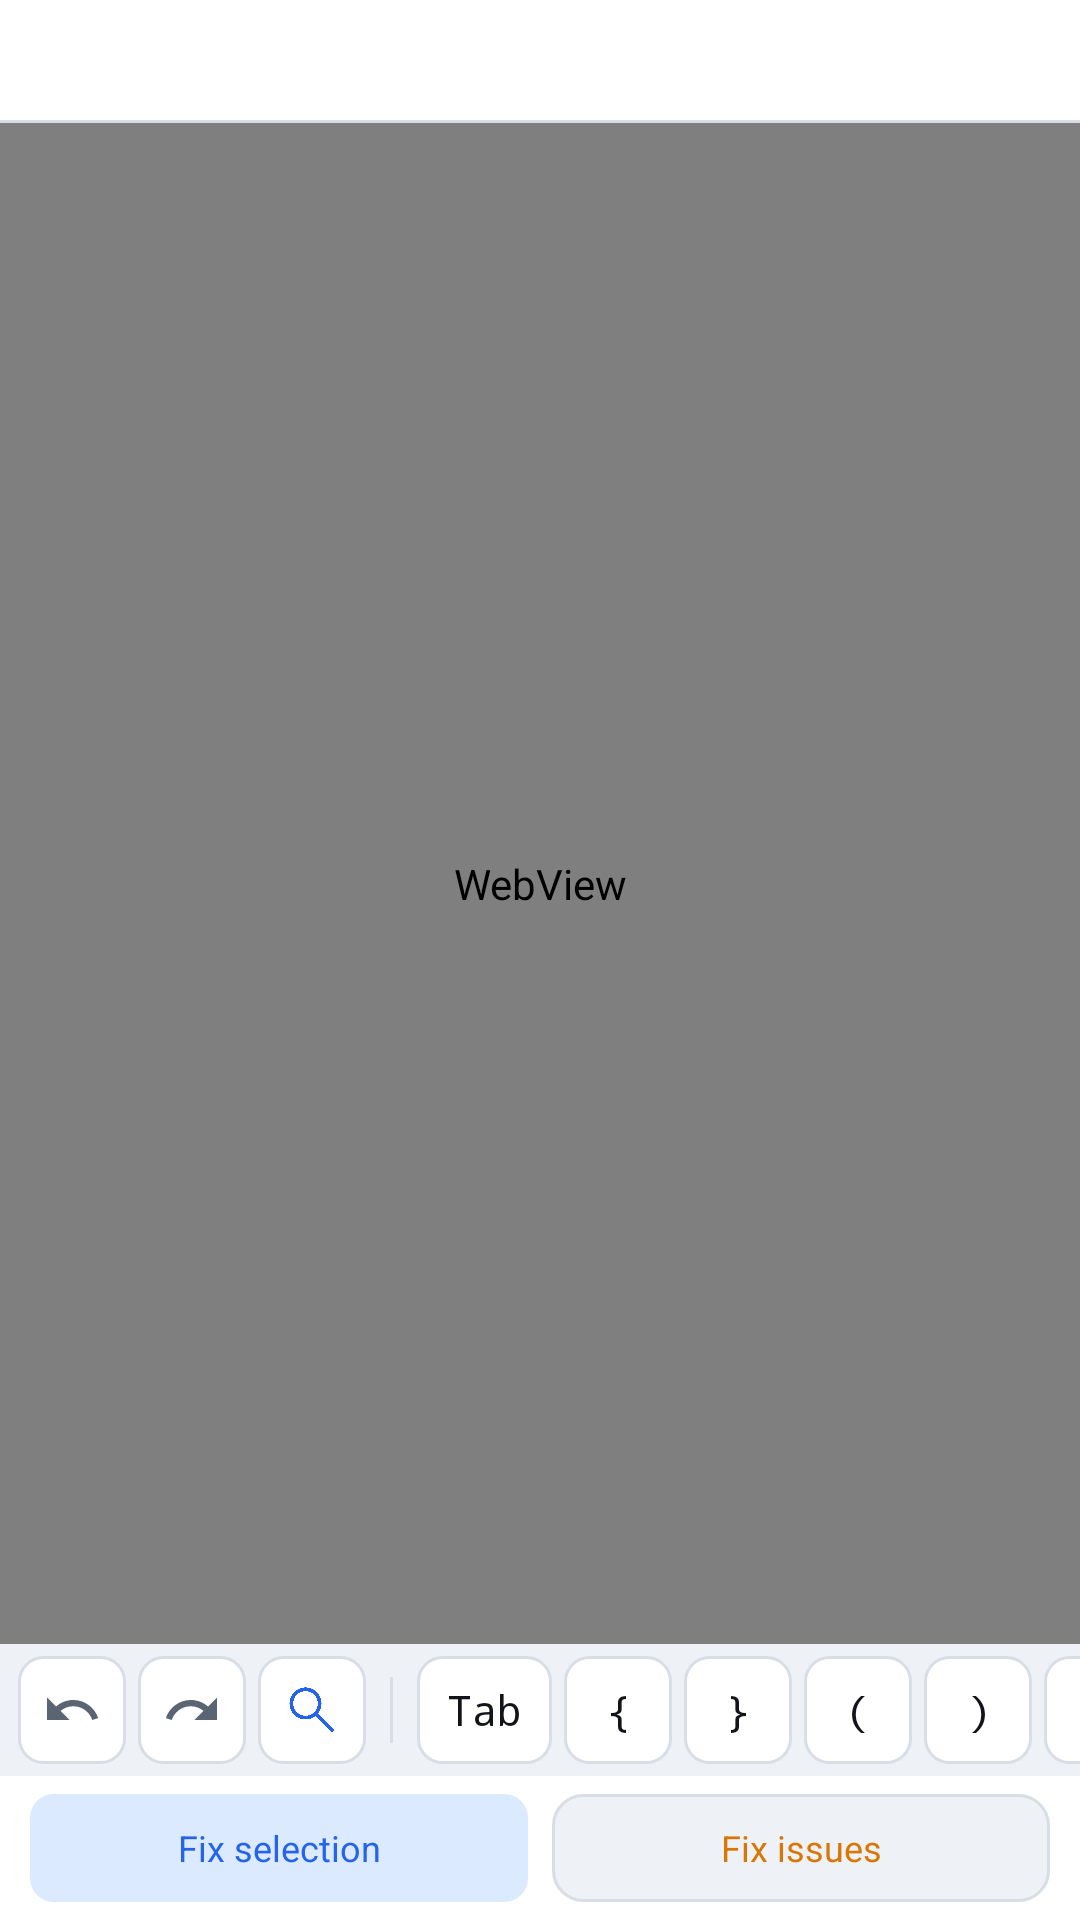

Locate icon controls on the screen. Image size 1080px x 1920px, boxes as bbox=[x1, y1, x2, y2].
Find: bbox=[258, 1656, 366, 1764]
Redo: bbox=[166, 1698, 217, 1720]
Undo: bbox=[47, 1698, 98, 1720]
